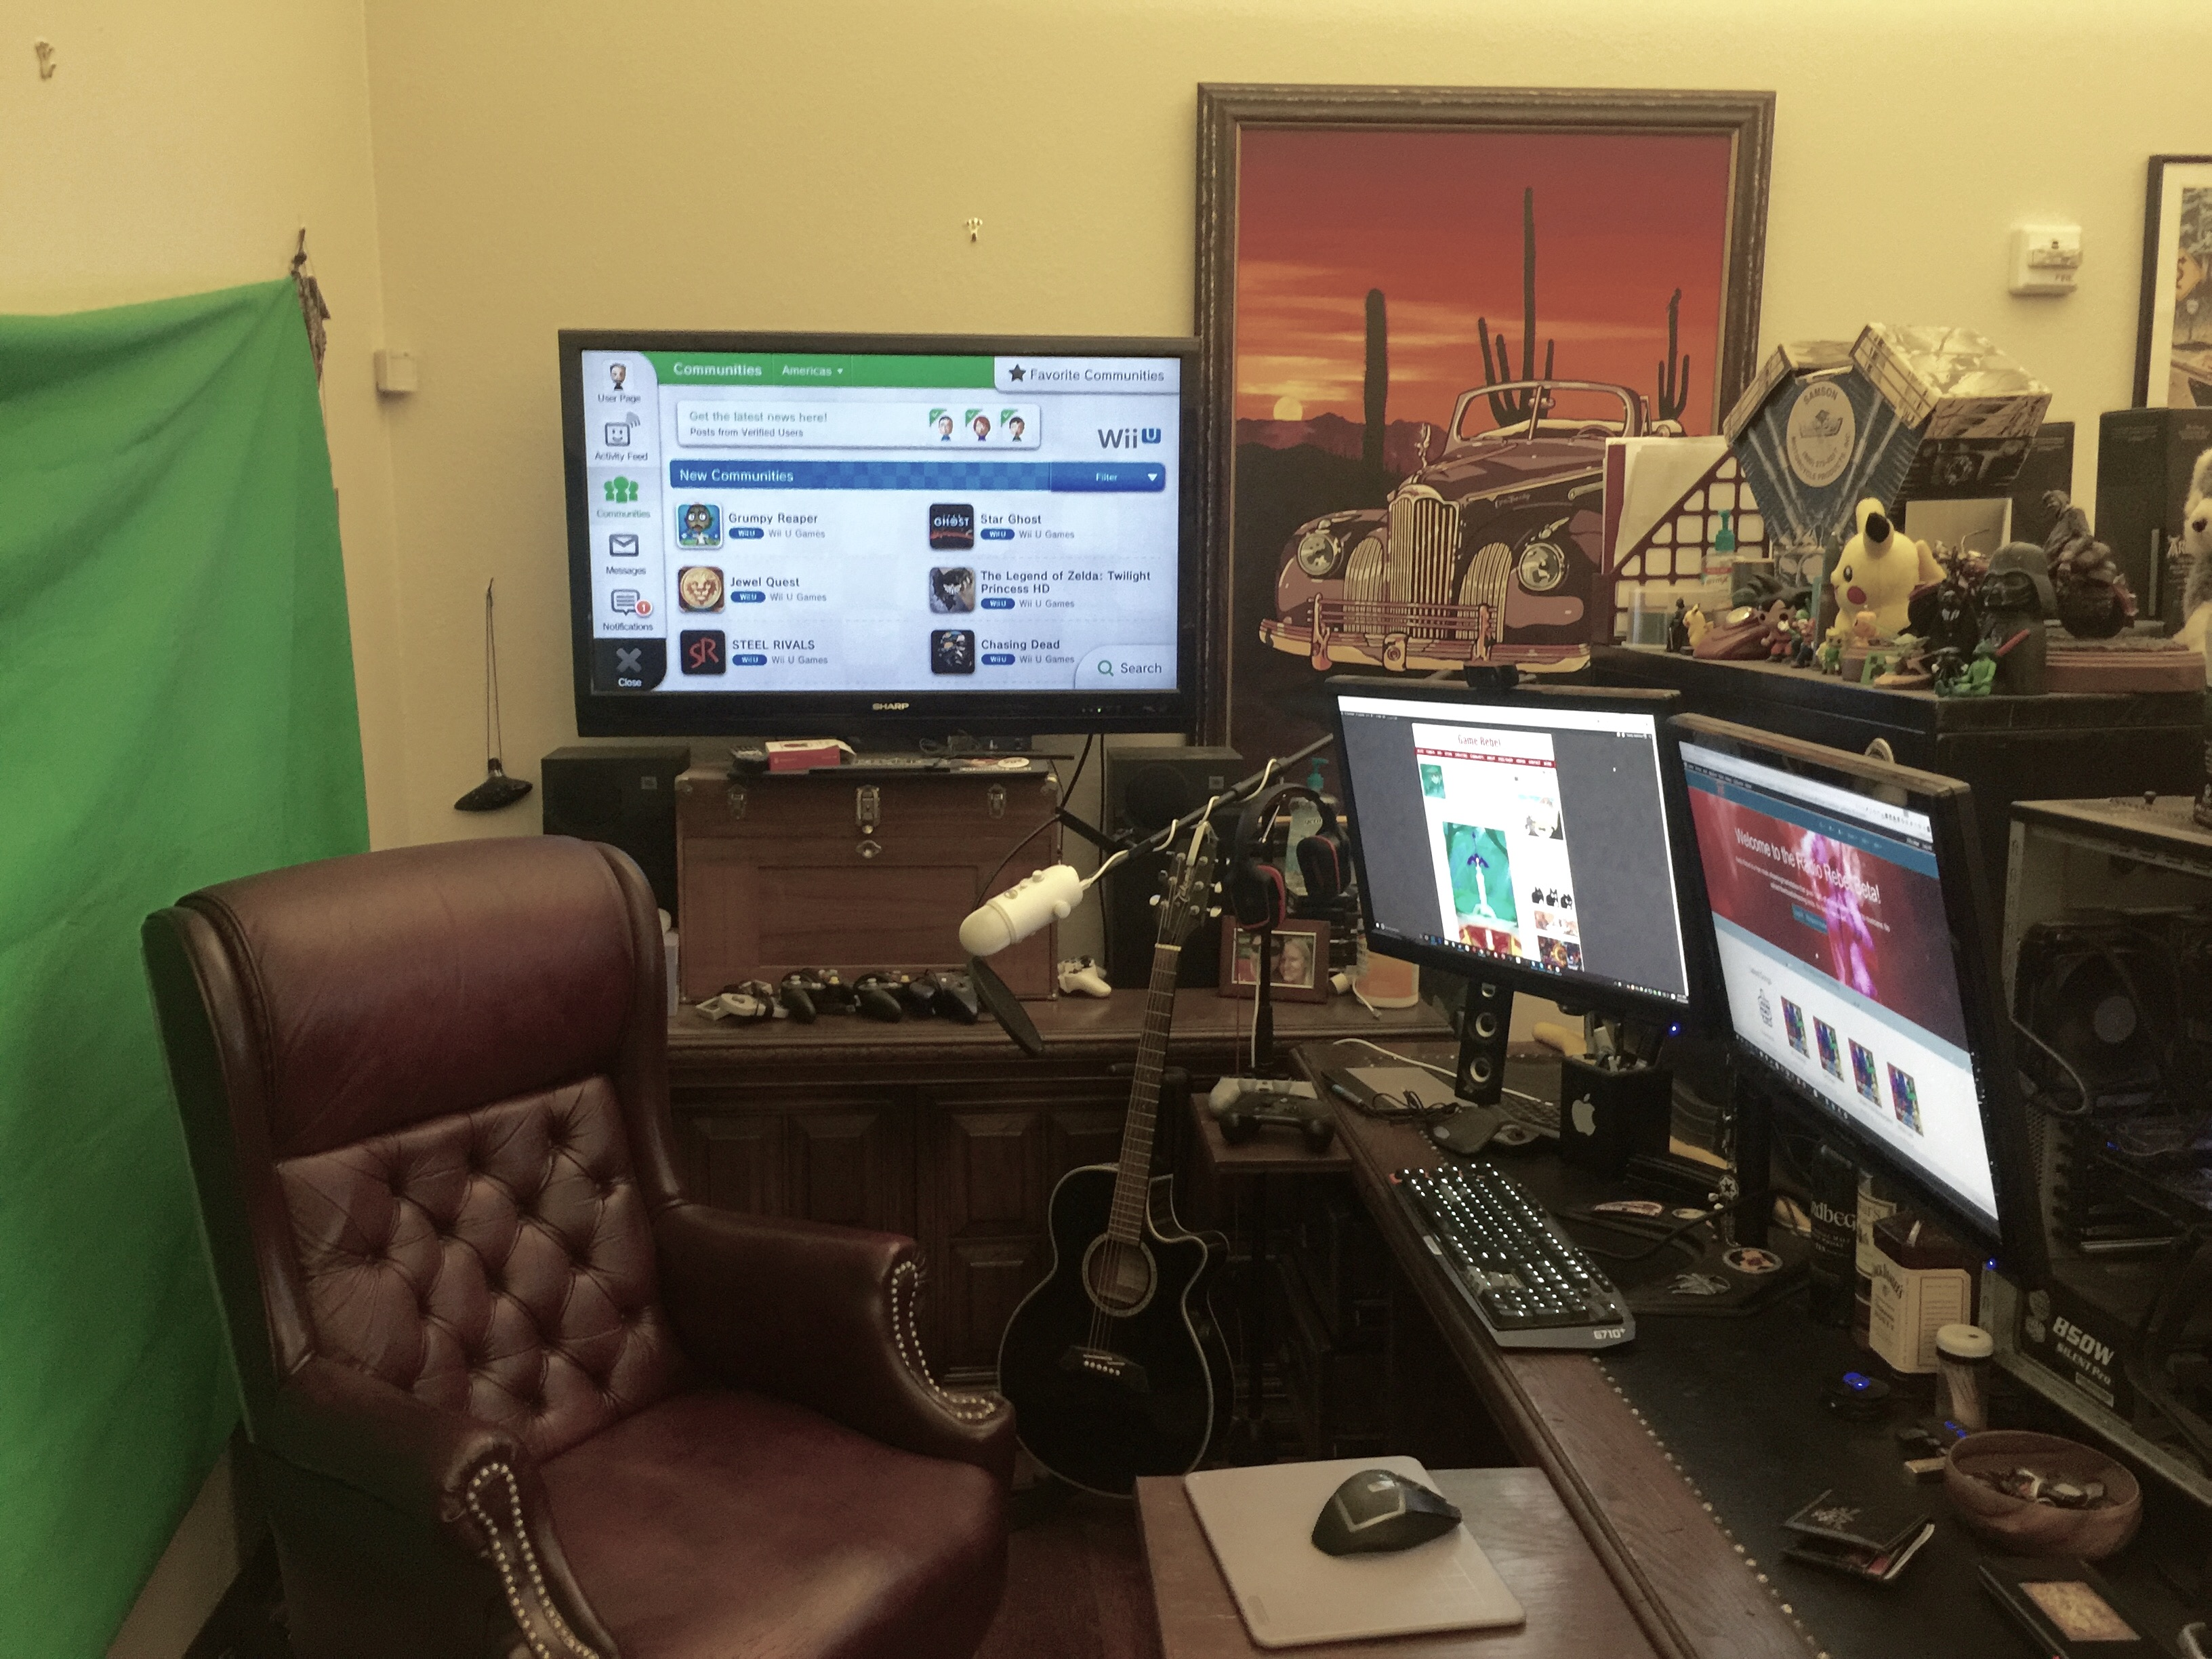Chair (Generic): (131, 829, 1015, 1656)
Decoration (Generic): (1662, 319, 2212, 695)
Decoration (Picture): (1184, 82, 1771, 840), (1223, 910, 1329, 1009)
Desk (Generic): (1289, 1037, 2212, 1657)
Desktop (Windows): (1979, 788, 2212, 1516)
External Microphone (with Boom Arm): (954, 728, 1341, 958)
External Speakers (Generic): (1454, 979, 1515, 1105)
Gaming Controller: (1219, 1091, 1338, 1150), (780, 962, 853, 1023), (852, 962, 920, 1021), (911, 972, 984, 1025), (1207, 1077, 1305, 1114), (1055, 958, 1113, 1000)
Keyboard (Gaming): (1385, 1159, 1639, 1356)
Monitor (Landscape): (1660, 713, 2054, 1295), (1322, 676, 1709, 1012)
Mouse (Generic): (1310, 1469, 1461, 1560)
Musical Instrument (Guitar): (996, 823, 1237, 1502)
